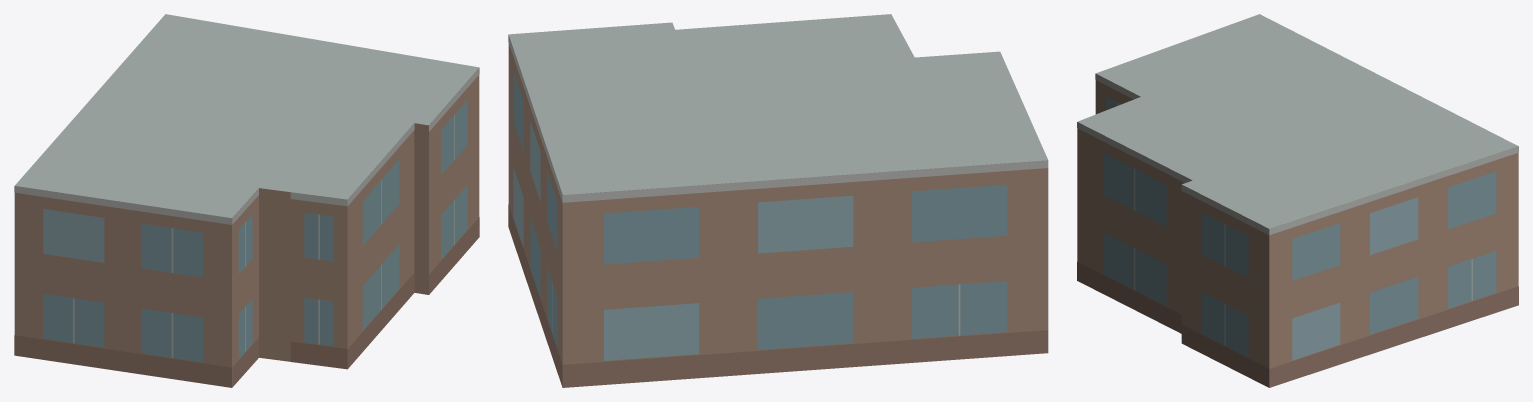
Rendered from survey-upis-32995985.glb.
The picture shows the model from 3 angles, left to right: view 1: azimuth 30°, elevation 25°; view 2: azimuth 150°, elevation 25°; view 3: azimuth 270°, elevation 25°; orthographic projection. The views are drawn at different scales.
Visible parts, largest first — view 1: survey-upis-32995985.tmp; view 2: survey-upis-32995985.tmp; view 3: survey-upis-32995985.tmp.
Boxes of the visible parts, x1,y1,x2,y2 form: survey-upis-32995985.tmp: (14, 14, 479, 387); survey-upis-32995985.tmp: (508, 14, 1048, 387); survey-upis-32995985.tmp: (1077, 14, 1518, 387).
Size of the model in its own units: 17.69 by 6.1 by 15.37.
